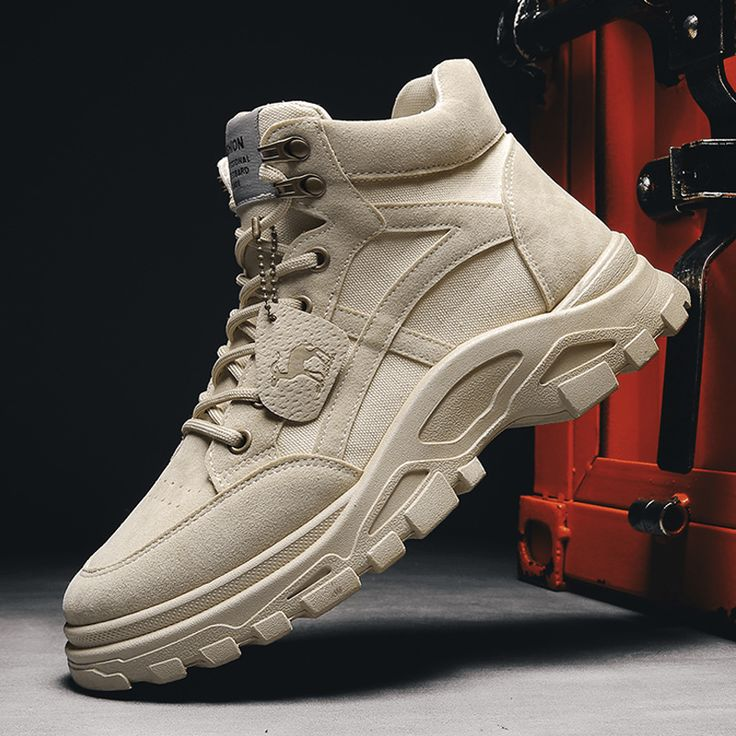gamuza: (62, 56, 613, 627)
